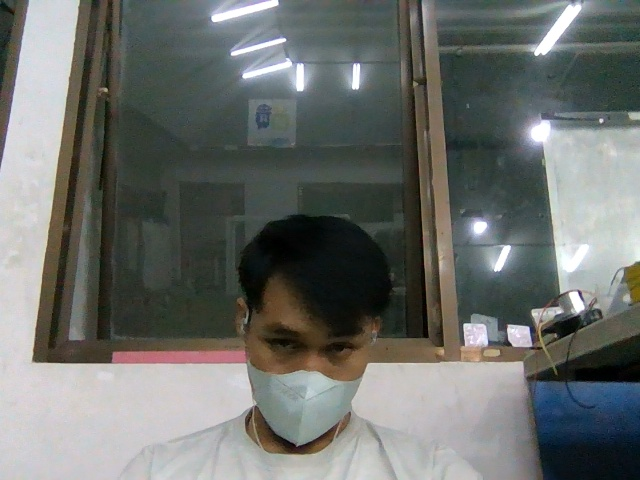mask_on: (246, 357, 362, 446)
